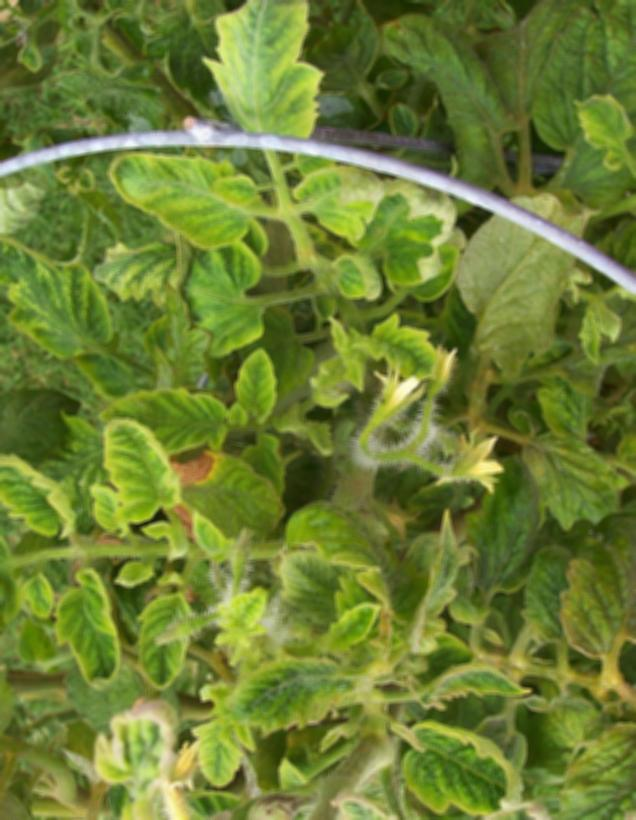Tomato leaf yellow virus: (206, 0, 325, 176), (204, 650, 386, 750), (107, 154, 267, 254), (86, 413, 194, 550), (400, 720, 534, 820), (279, 540, 386, 638), (67, 389, 236, 451), (279, 154, 391, 239), (58, 564, 127, 694), (0, 433, 77, 542), (568, 91, 636, 200), (191, 689, 251, 797), (139, 589, 194, 695), (229, 344, 286, 445), (349, 323, 441, 385)
